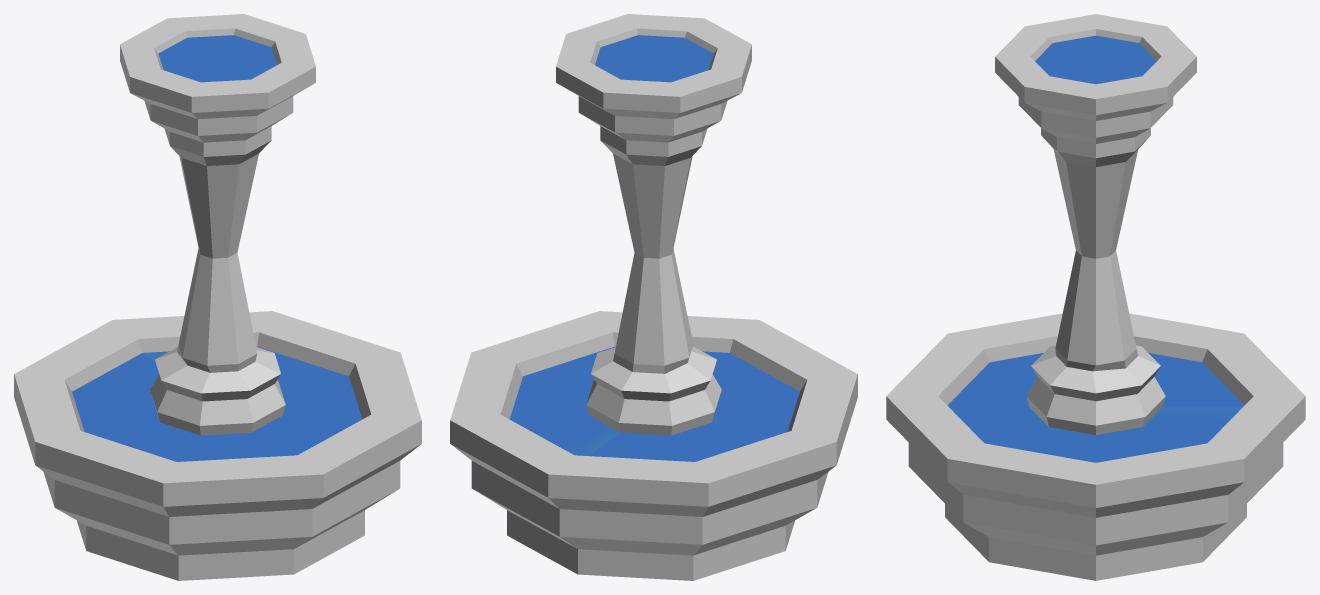
File: M_ParkFountain.fbx
3 renders of one model, left to right at view 1: azimuth 30°, elevation 25°; view 2: azimuth 150°, elevation 25°; view 3: azimuth 270°, elevation 25°, orthographic.
Parts seen in each view (by area): view 1: Fountain; view 2: Fountain; view 3: Fountain.
Part boxes in pixels (x1,y1,x2,y2): Fountain: (14, 14, 421, 580); Fountain: (450, 14, 857, 580); Fountain: (886, 14, 1305, 580).
Size of the model in its own units: 1001 by 1213 by 1001.
